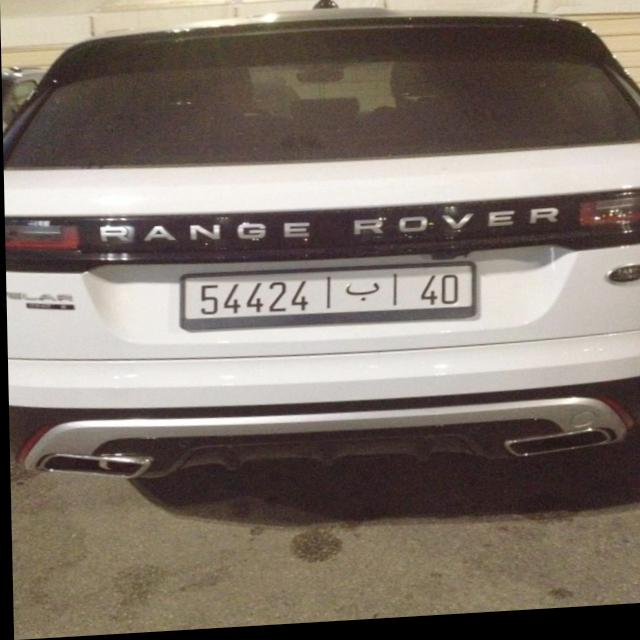License-Plate: (179, 268, 474, 333)
